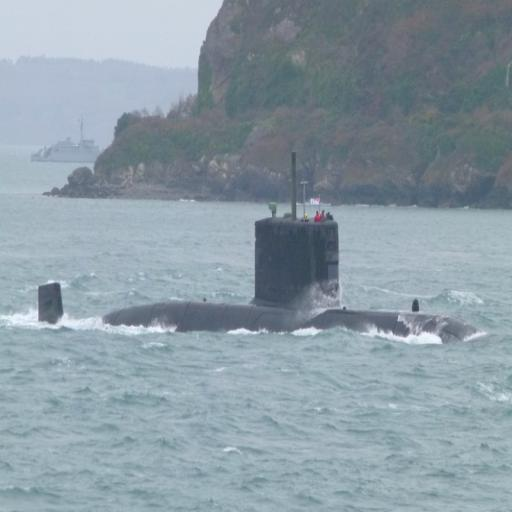submarine: (35, 225, 462, 342)
